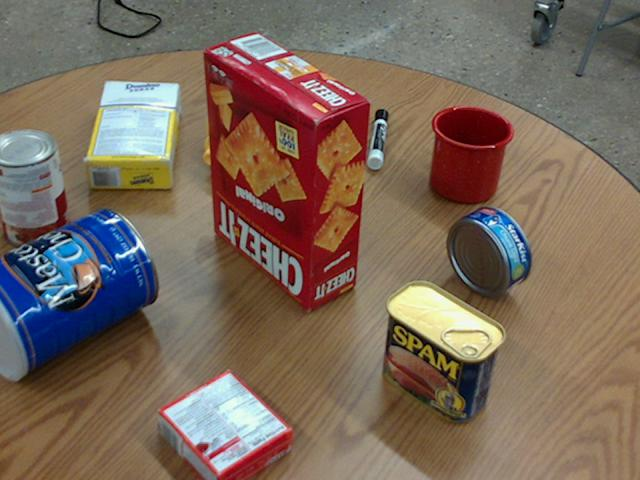cracker_box: (203, 32, 369, 309)
gelatin_box: (157, 369, 292, 479)
large_marker: (367, 109, 388, 168)
master_chef_can: (0, 206, 157, 380)
mug: (427, 105, 512, 202)
mustard_bottle: (203, 67, 320, 164)
potted_meat_can: (381, 281, 506, 422)
sugar_box: (84, 78, 179, 189)
tomato_soup_can: (0, 128, 70, 248)
tuna_fish_can: (446, 205, 530, 295)
